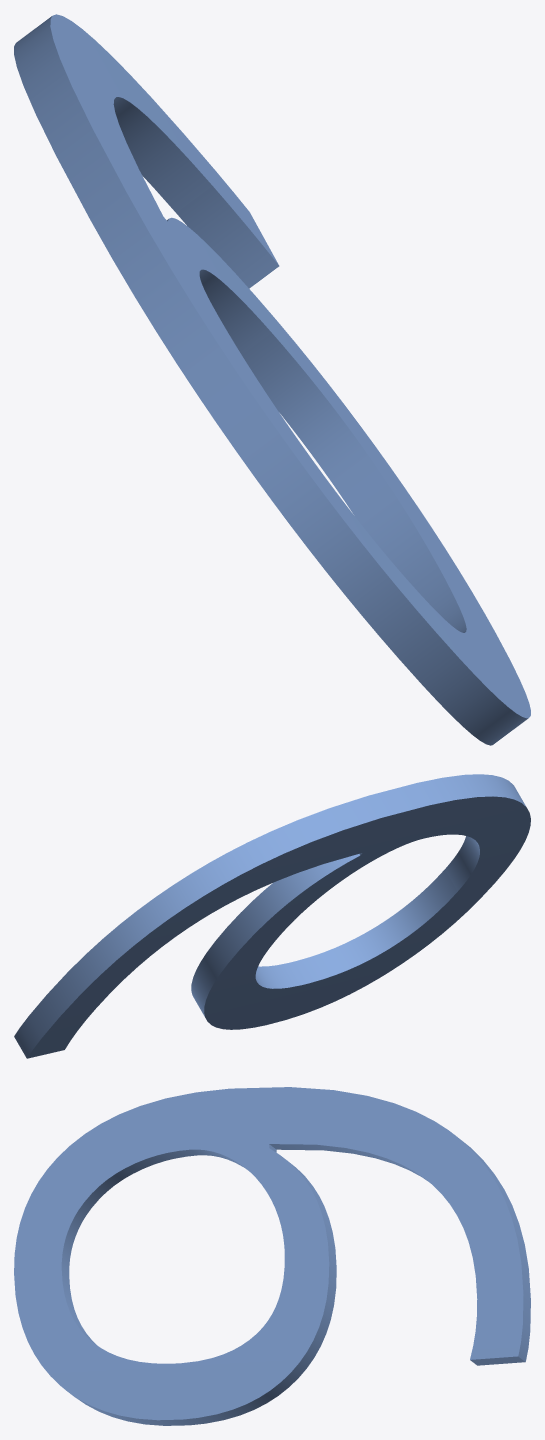
Rendered from New_Number_6.gltf.
3 renders of one model, top to bottom at view 1: azimuth 30°, elevation 25°; view 2: azimuth 150°, elevation 25°; view 3: azimuth 270°, elevation 25°, orthographic. The views are drawn at different scales.
Parts seen in each view (by area): view 1: Part 663; view 2: Part 663; view 3: Part 663.
Boxes of the visible parts, x1,y1,x2,y2 form: Part 663: (14, 14, 530, 745); Part 663: (14, 774, 530, 1058); Part 663: (14, 1087, 530, 1425).
Bounding box in the file's own units: 0.00289 × 0.00328 × 0.00554.
